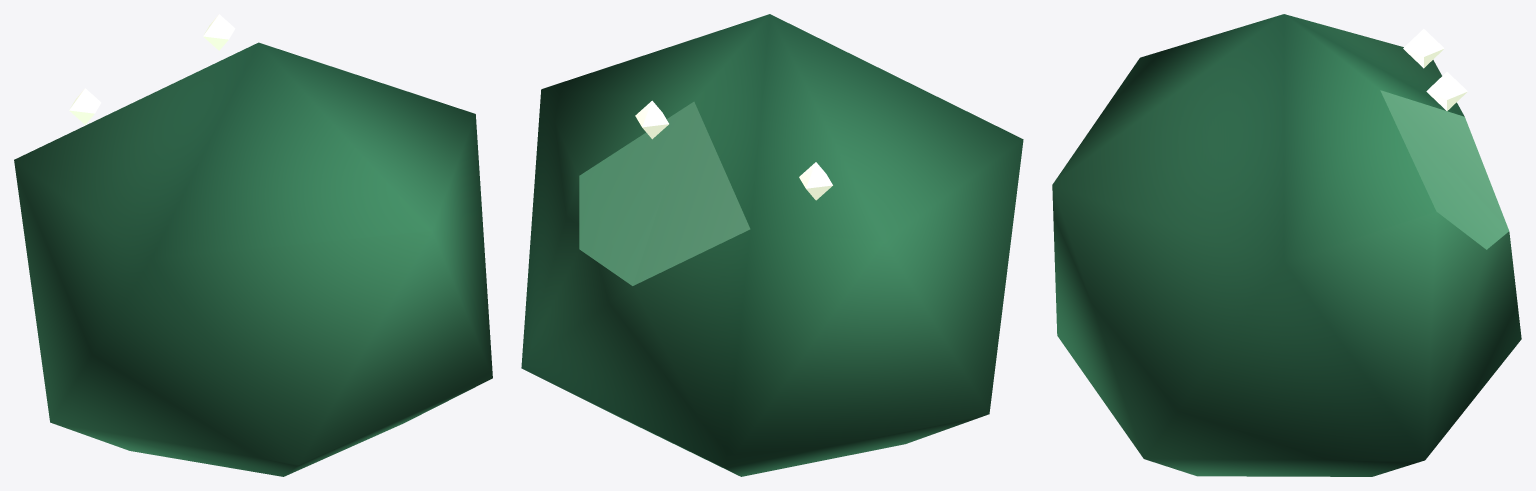
Rendered from ore_jade.glb.
The picture shows the model from 3 angles, left to right: view 1: azimuth 30°, elevation 25°; view 2: azimuth 150°, elevation 25°; view 3: azimuth 270°, elevation 25°; orthographic projection. The views are drawn at different scales.
Bounding box in the file's own units: 0.26 × 0.22 × 0.23.
